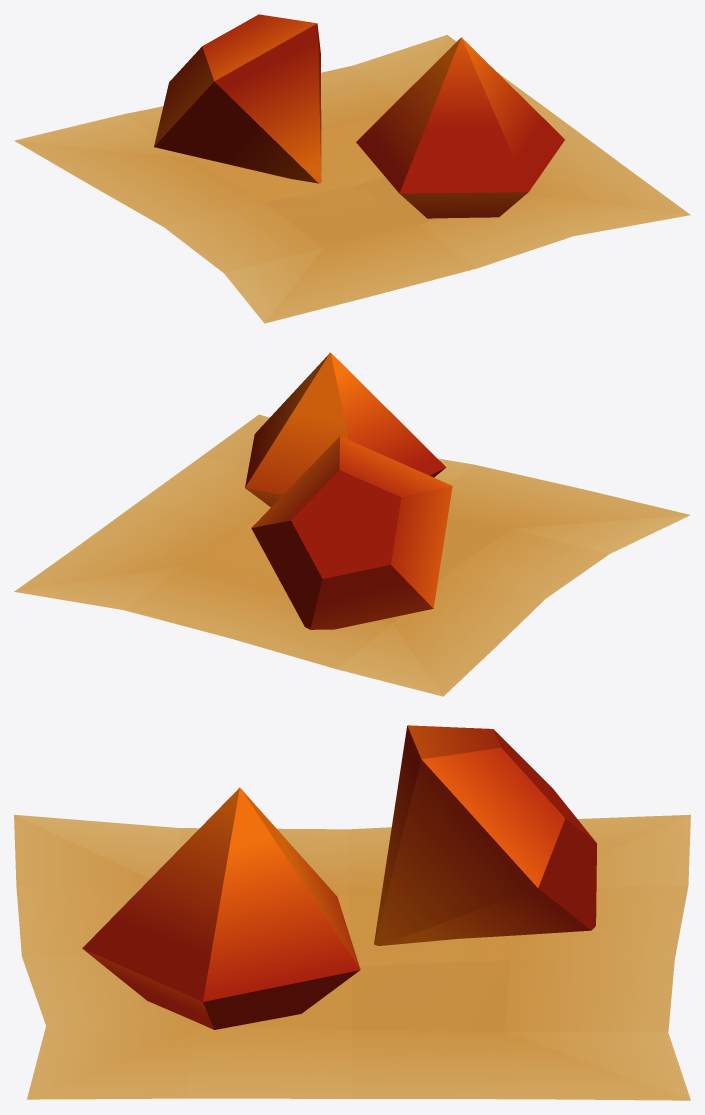
The model's file is obj_Rubies.fbx.
The picture shows the model from 3 angles, top to bottom: view 1: azimuth 30°, elevation 25°; view 2: azimuth 150°, elevation 25°; view 3: azimuth 270°, elevation 25°; orthographic projection. The views are drawn at different scales.
Visible parts, largest first — view 1: obj_Rubies; view 2: obj_Rubies; view 3: obj_Rubies.
Part boxes in pixels (x1,y1,x2,y2): obj_Rubies: (14, 14, 690, 323); obj_Rubies: (14, 352, 690, 696); obj_Rubies: (14, 725, 690, 1100).
Bounding box in the file's own units: 39.6 × 14.27 × 39.61.
